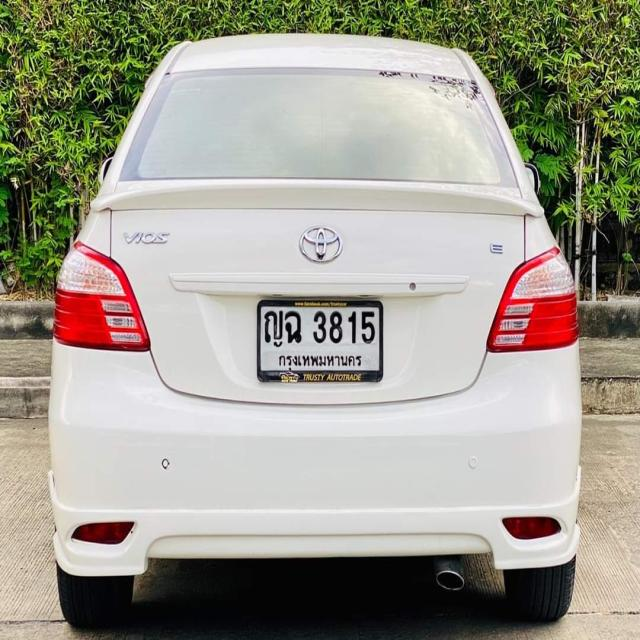license_plate: (257, 298, 385, 388)
